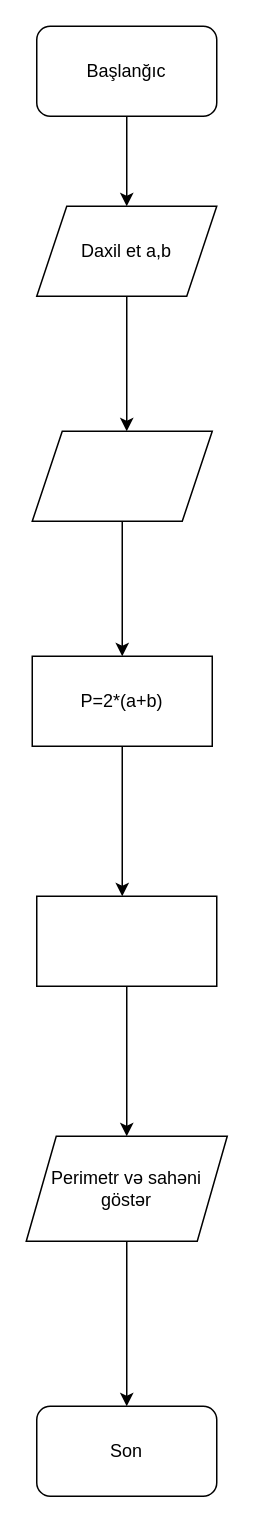
Image size: 254x1523. Some labels were removed from this diagram. Each missing label, with the centre of its shape:
a>0 b>0: (121,475)
S=a*b: (126,940)
